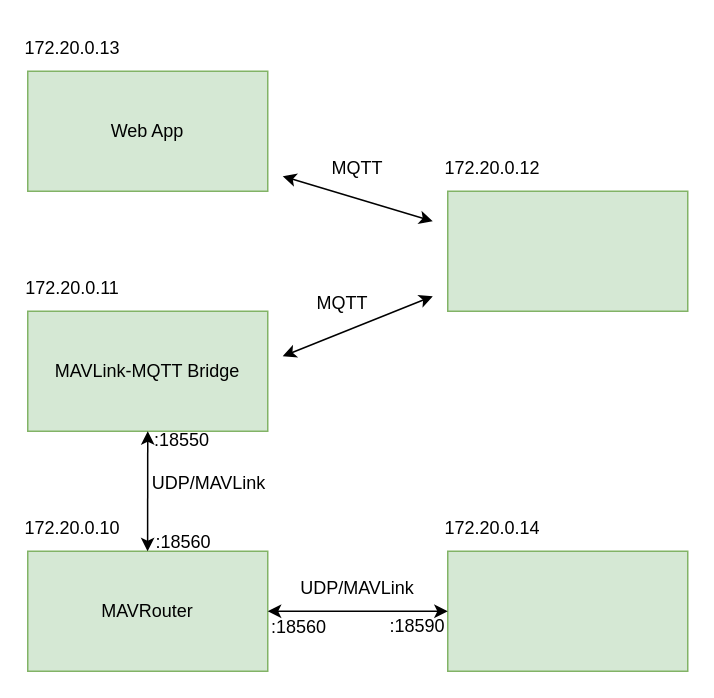
This 714x698 diagram has some shape labels left out. The shapes that lost their labels are listed below. From the top down, each one's centre as x and y in pixels, then its label:
At pixel 567 250: "Mosquitto".
At pixel 567 610: "Test".
